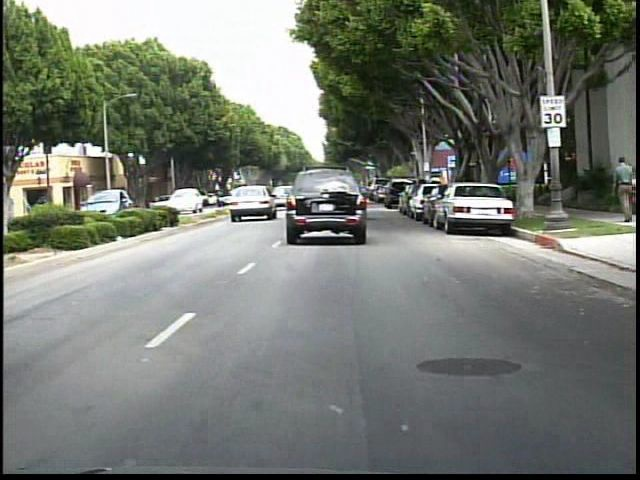person: (608, 154, 637, 227)
